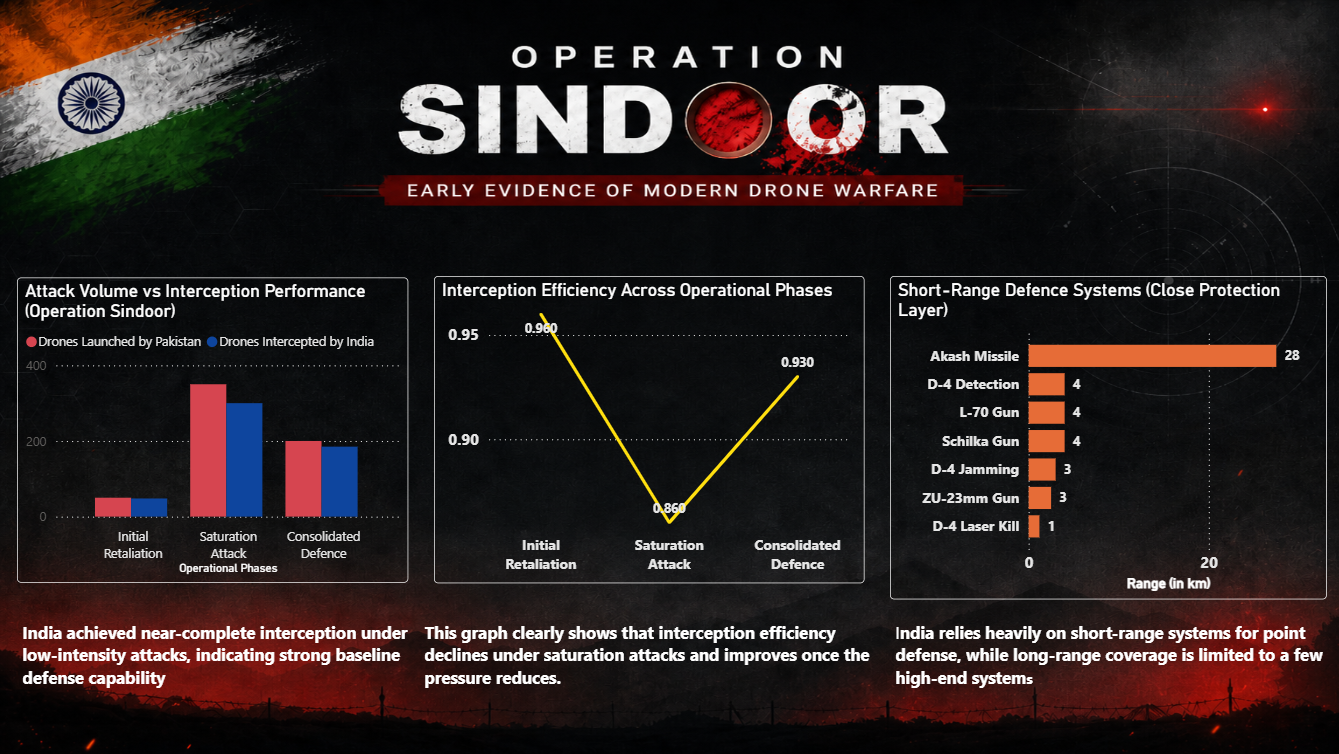

This screenshot's page, from the dashboard's own definition file:
{"tool":"powerbi","page":{"name":"Operation Sindoor:Early Evidence of Modern Drone Warware","canvas":[1280,720],"ordinal":2},"visuals":[{"type":"clusteredColumnChart","title":"Attack Volume vs Interception Performance (Operation Sindoor)","fields":{"Y":["Sum(OP Sindoor.Drones_Launched)","Sum(OP Sindoor.Drones_Intercepted)"],"Category":["Phase_Table.Phase"]},"box":[16.7,265,372.5,290.7],"z":0},{"type":"lineChart","title":"Interception Efficiency Across Operational Phases","fields":{"Y":["Avg(OP Sindoor.Interception_Rate)"],"Category":["Phase_Table.Phase"]},"box":[413.9,262.7,410.1,292.9],"z":1000},{"type":"textbox","box":[400.6,585.8,464.9,88.8],"z":2000},{"type":"textbox","box":[17,585.8,396.9,88.8],"z":3000},{"type":"textbox","box":[848.5,585.8,430.9,134.2],"z":4000},{"type":"clusteredBarChart","title":"Short-Range Defence Systems (Close Protection Layer)","fields":{"Category":["India_Defence_Range.System"],"Y":["Sum(India_Defence_Range.Effective_Range_km)"]},"box":[848.5,262.7,415.8,308],"z":5000}]}

Visuals, with their boxes in screenshot pixels (x1, y1, x2, y2), scaled from the page's 1280x720 canvas onto the 1339x754 screenshot:
"Attack Volume vs Interception Performance (Operation Sindoor)" clusteredColumnChart: <box>17,278,407,582</box>
"Interception Efficiency Across Operational Phases" lineChart: <box>433,275,862,582</box>
textbox: <box>419,613,905,706</box>
textbox: <box>18,613,433,706</box>
textbox: <box>888,613,1338,753</box>
"Short-Range Defence Systems (Close Protection Layer)" clusteredBarChart: <box>888,275,1323,598</box>
